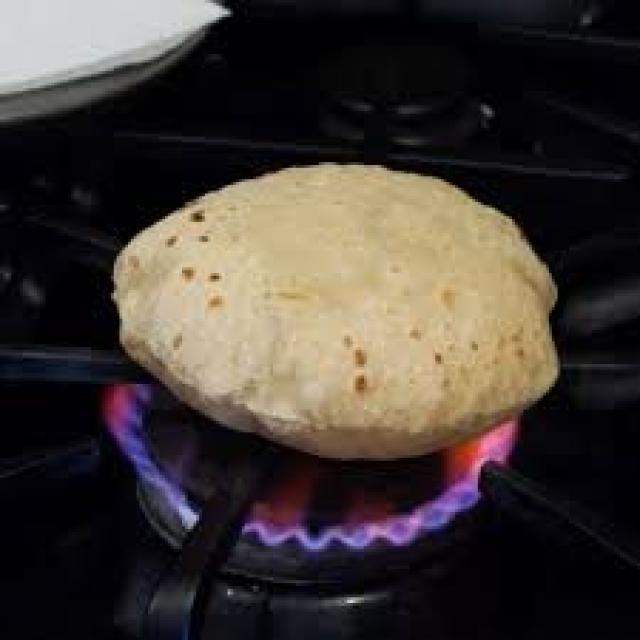ROTI: (114, 155, 560, 459)
